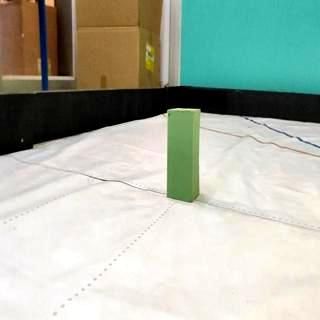greenbox: (165, 108, 202, 204)
